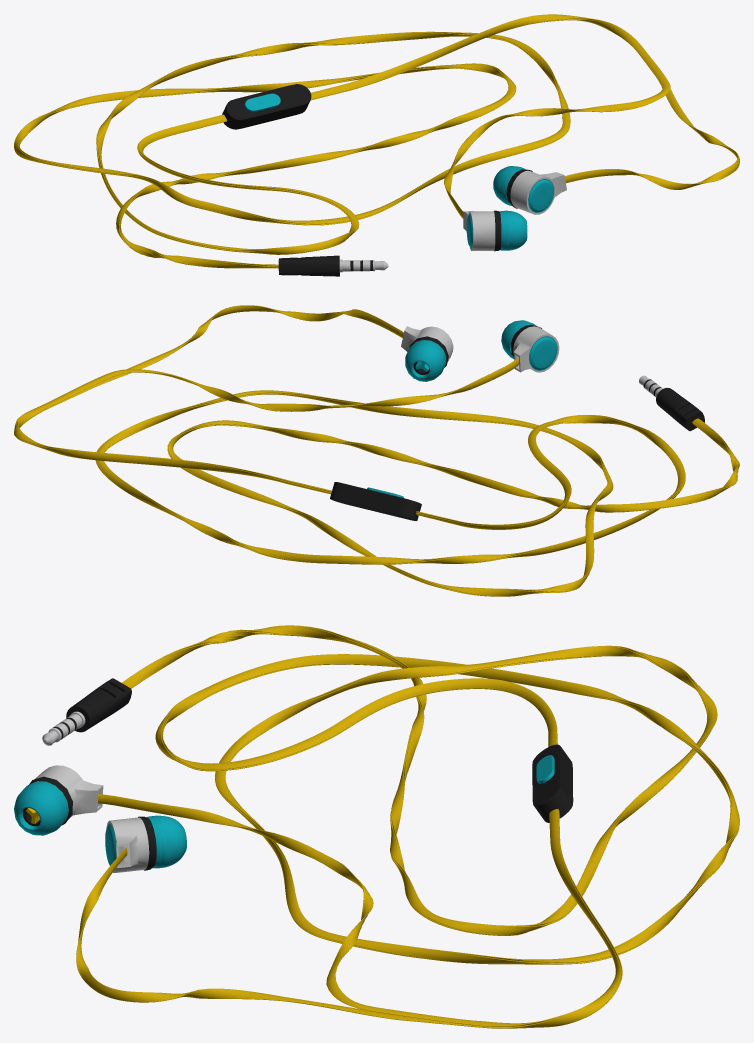
Rendered from wired_earphones_-_handsfree_-_low_poly_3d.glb.
3 renders of one model, top to bottom at view 1: azimuth 30°, elevation 25°; view 2: azimuth 150°, elevation 25°; view 3: azimuth 270°, elevation 25°, orthographic. The views are drawn at different scales.
Visible parts, largest first — view 1: Earphone; view 2: Earphone; view 3: Earphone.
Part boxes in pixels (<box>): Earphone: <box>14,14,739,276</box>; Earphone: <box>14,305,739,596</box>; Earphone: <box>14,625,739,1028</box>.
Size of the model in its own units: 0.1417 by 0.00839 by 0.1117.
Materials: 1 (1 with a texture image).
